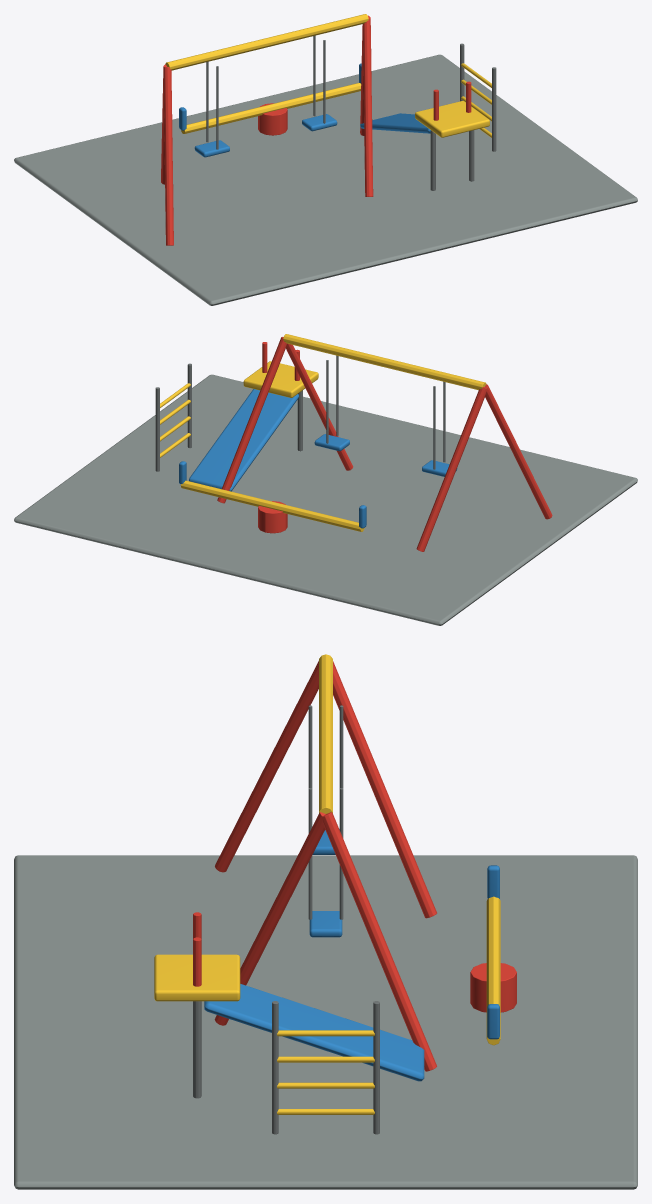
The model's file is aire_jeux_baie_des_rois.glb.
The picture shows the model from 3 angles, top to bottom: view 1: azimuth 30°, elevation 25°; view 2: azimuth 150°, elevation 25°; view 3: azimuth 270°, elevation 25°; orthographic projection. The views are drawn at different scales.
Parts seen in each view (by area): view 1: Dalle_souple_aire_jeux, Barre_haute_balançoire, Plateforme_toboggan, Planche_bascule, Jambe_portique_A, Jambe_portique_A.002, Glissiere_toboggan, Pivot_bascule, Montant_echelle; view 2: Dalle_souple_aire_jeux, Glissiere_toboggan, Barre_haute_balançoire, Planche_bascule, Jambe_portique_A.001, Jambe_portique_A.003, Plateforme_toboggan, Jambe_portique_A, Jambe_portique_A.002, Pivot_bascule, Montant_echelle.001; view 3: Dalle_souple_aire_jeux, Glissiere_toboggan, Plateforme_toboggan, Jambe_portique_A.003, Jambe_portique_A.001, Jambe_portique_A, Jambe_portique_A.002, Barre_haute_balançoire, Planche_bascule, Pivot_bascule, Montant_echelle, Montant_echelle.001 (+2 smaller).
Part boxes in pixels (x1,y1,x2,y2): Dalle_souple_aire_jeux: (14, 54, 637, 305); Barre_haute_balançoire: (165, 14, 368, 70); Plateforme_toboggan: (415, 101, 489, 137); Planche_bascule: (181, 83, 361, 133); Jambe_portique_A: (163, 67, 173, 245); Jambe_portique_A.002: (362, 18, 373, 196); Glissiere_toboggan: (360, 113, 430, 133); Pivot_bascule: (258, 103, 287, 135); Montant_echelle: (492, 67, 496, 151); Dalle_souple_aire_jeux: (14, 374, 637, 625); Glissiere_toboggan: (189, 389, 298, 491); Barre_haute_balançoire: (283, 334, 486, 390); Planche_bascule: (180, 480, 364, 531); Jambe_portique_A.001: (416, 387, 486, 551); Jambe_portique_A.003: (217, 337, 286, 503); Plateforme_toboggan: (243, 361, 318, 397); Jambe_portique_A: (485, 384, 552, 519); Jambe_portique_A.002: (286, 343, 353, 470); Pivot_bascule: (258, 501, 287, 533); Montant_echelle.001: (155, 387, 159, 471); Dalle_souple_aire_jeux: (14, 855, 637, 1189); Glissiere_toboggan: (204, 984, 424, 1081); Plateforme_toboggan: (154, 954, 240, 1001); Jambe_portique_A.003: (322, 812, 436, 1071); Jambe_portique_A.001: (333, 661, 436, 918); Jambe_portique_A: (215, 661, 318, 872); Jambe_portique_A.002: (214, 812, 325, 1025); Barre_haute_balançoire: (319, 654, 332, 813); Planche_bascule: (486, 896, 500, 1045); Pivot_bascule: (470, 963, 516, 1012); Montant_echelle: (272, 1001, 278, 1134); Montant_echelle.001: (373, 1001, 379, 1134).
Bounding box in the file's own units: 10 × 3.54 × 8.
